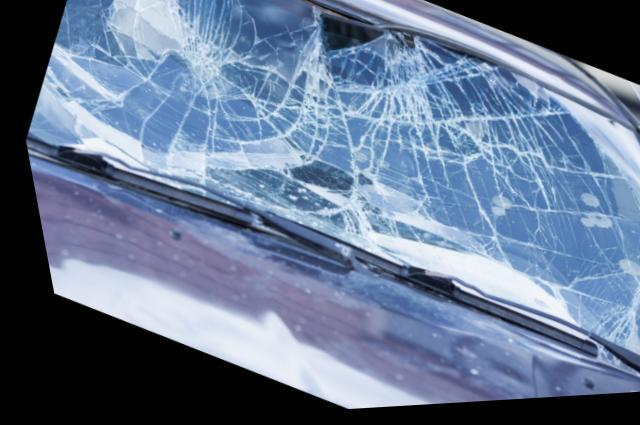glass shatter: (21, 0, 640, 371)
